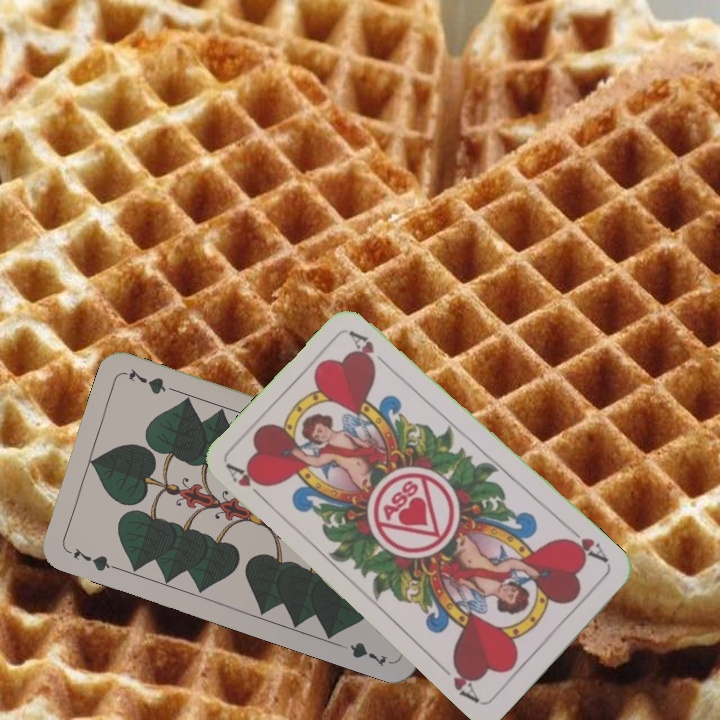G7: (62, 544, 119, 574)
HA: (559, 523, 611, 566), (223, 460, 271, 506)
